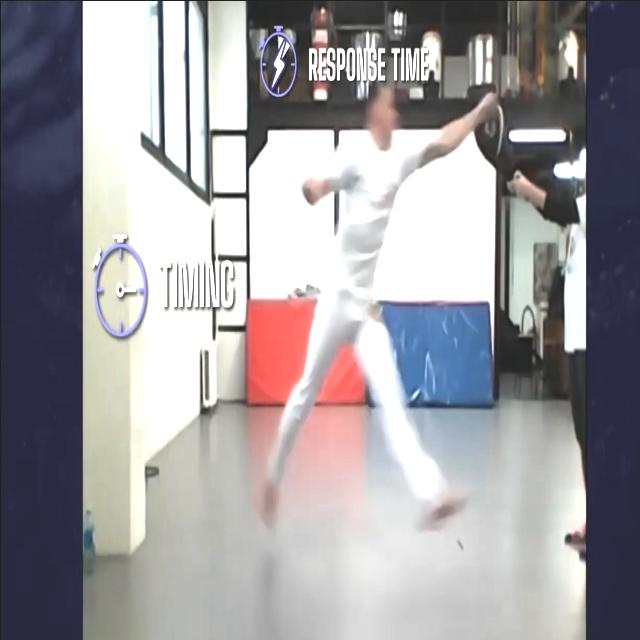paddle: (472, 90, 518, 178)
